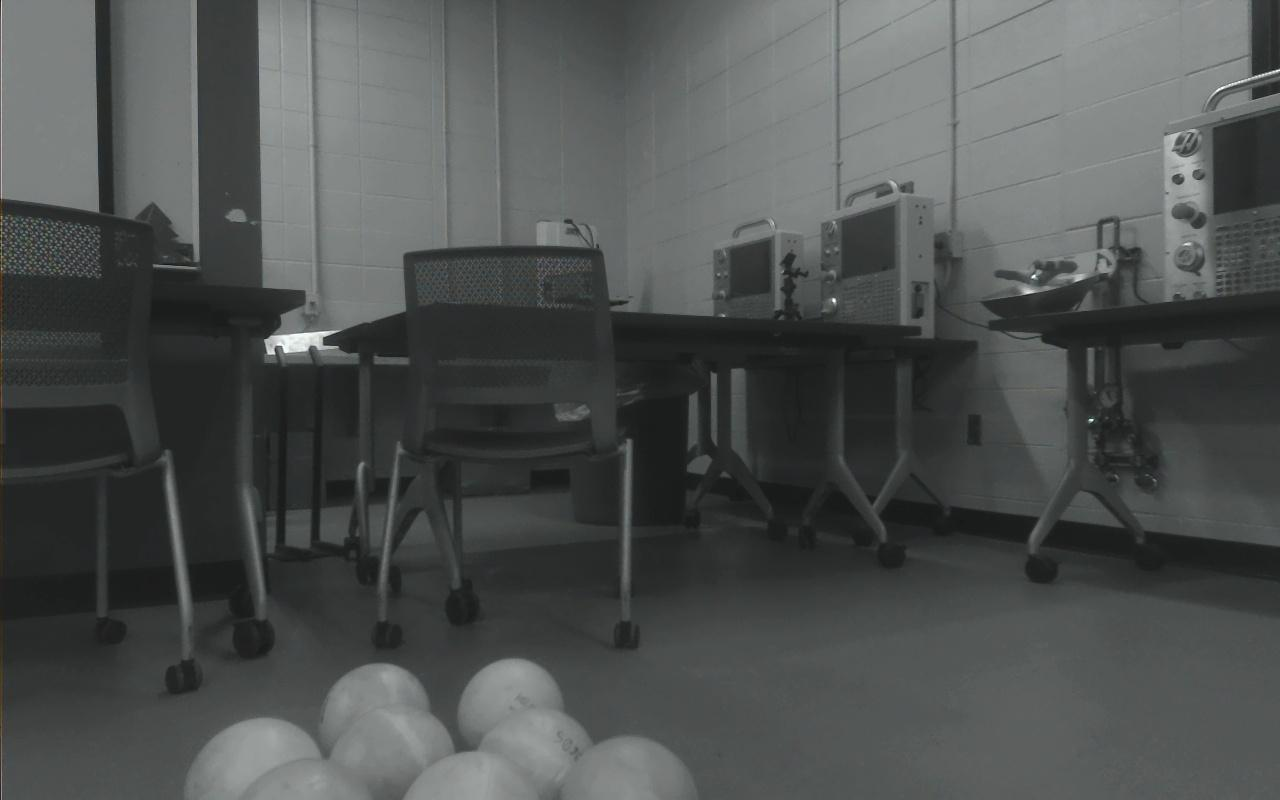Fuel: (328, 704, 454, 800), (184, 717, 324, 800), (476, 706, 594, 800), (317, 663, 430, 759), (457, 658, 566, 752), (559, 734, 698, 800), (403, 750, 543, 800), (242, 758, 375, 800)
